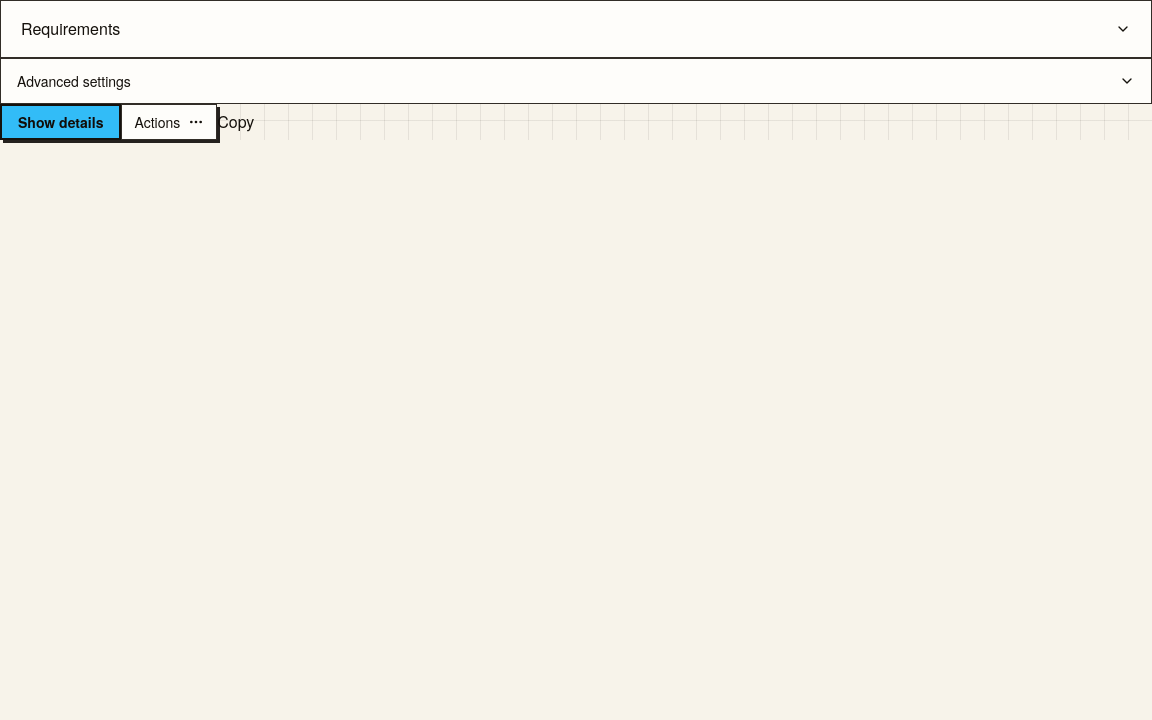
interactive and feedback components › supports disclosure and contextual overlays
This screenshot has width=1152, height=720.
Click the button "Requirements".
click(71, 28)  # box top-left (1, 1), bottom-right (1151, 57)
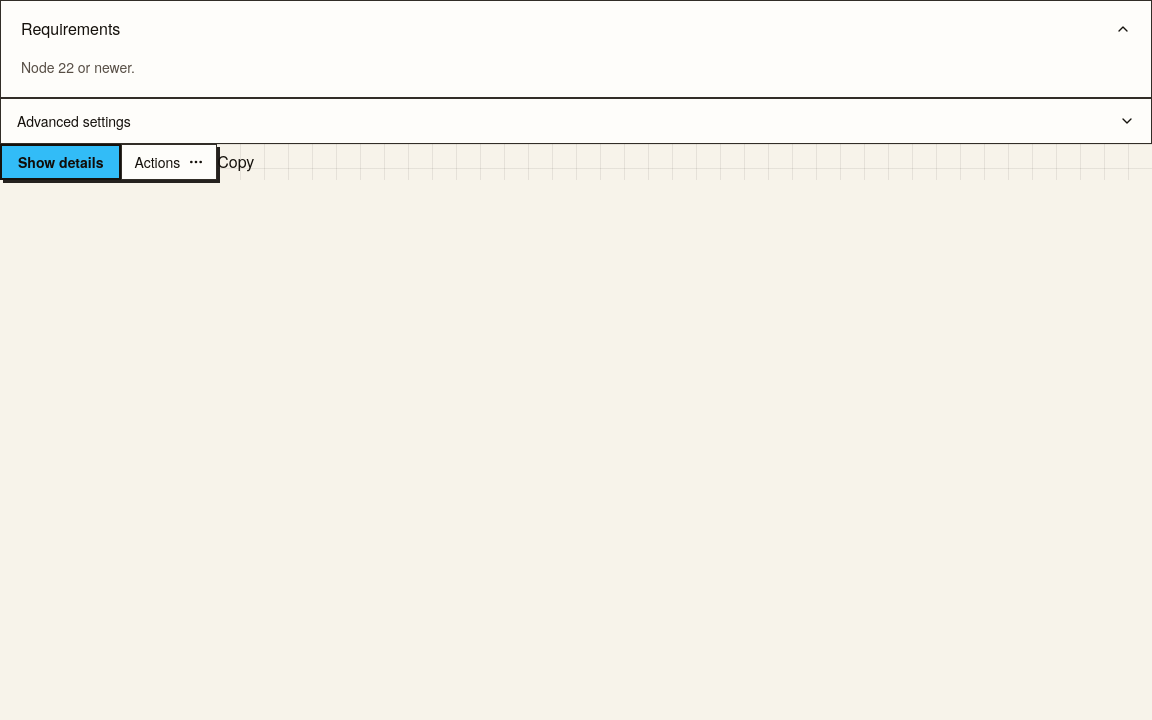
Now the text "Node 22 or newer." is shown, box top-left (21, 57), bottom-right (135, 77)
Click the button "Advanced settings".
click(74, 121)  # box top-left (1, 99), bottom-right (1151, 143)
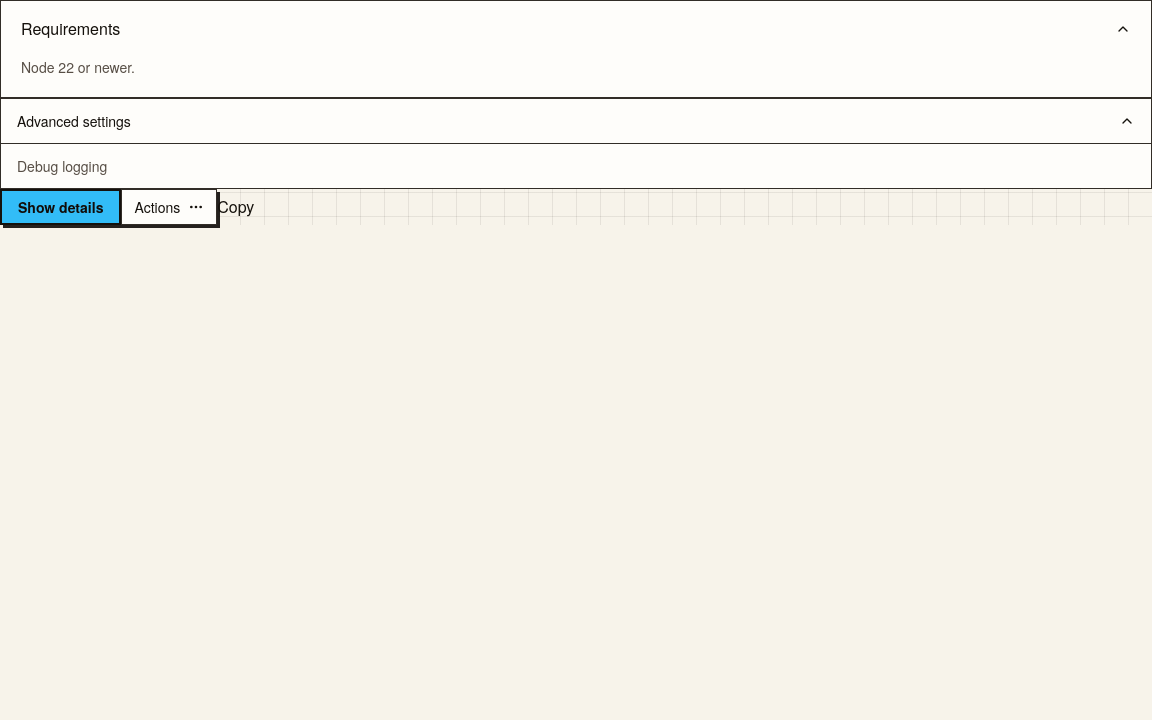
Now the text "Debug logging" is shown, box top-left (1, 143), bottom-right (1151, 188)
Click the button "Show details".
click(61, 207)  # box top-left (0, 189), bottom-right (122, 225)
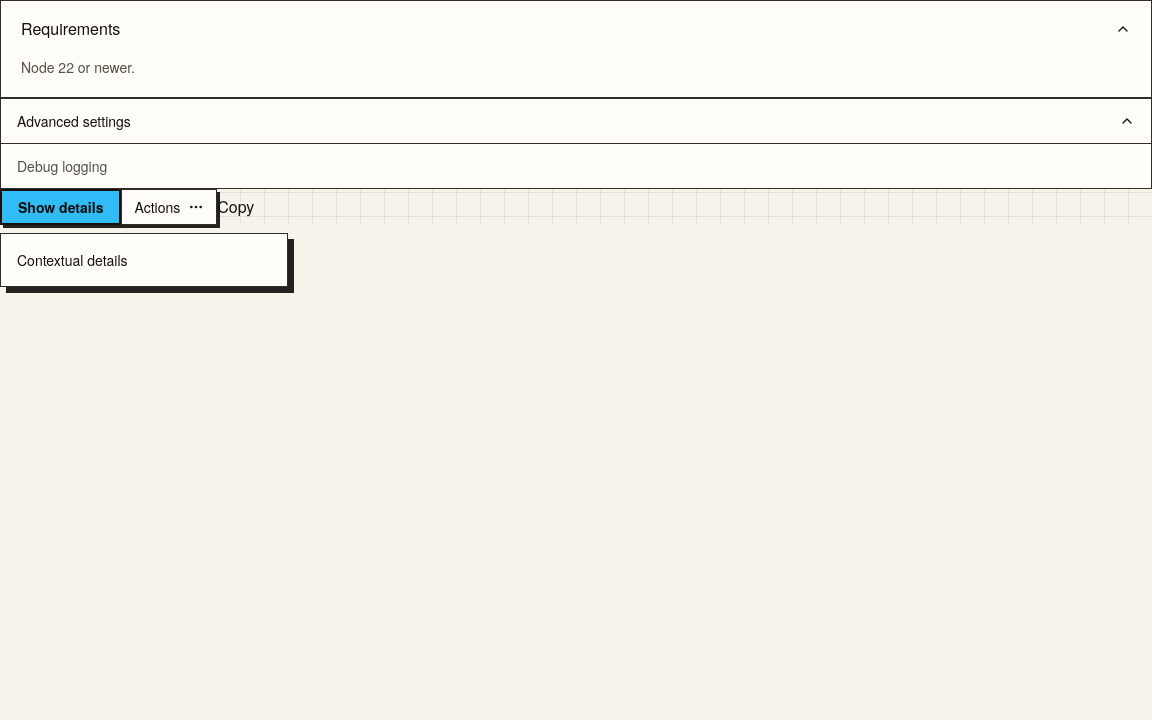
Now the text "Contextual details" is shown, box top-left (0, 233), bottom-right (288, 287)
Click the button "Actions".
click(169, 207)  # box top-left (122, 189), bottom-right (217, 225)
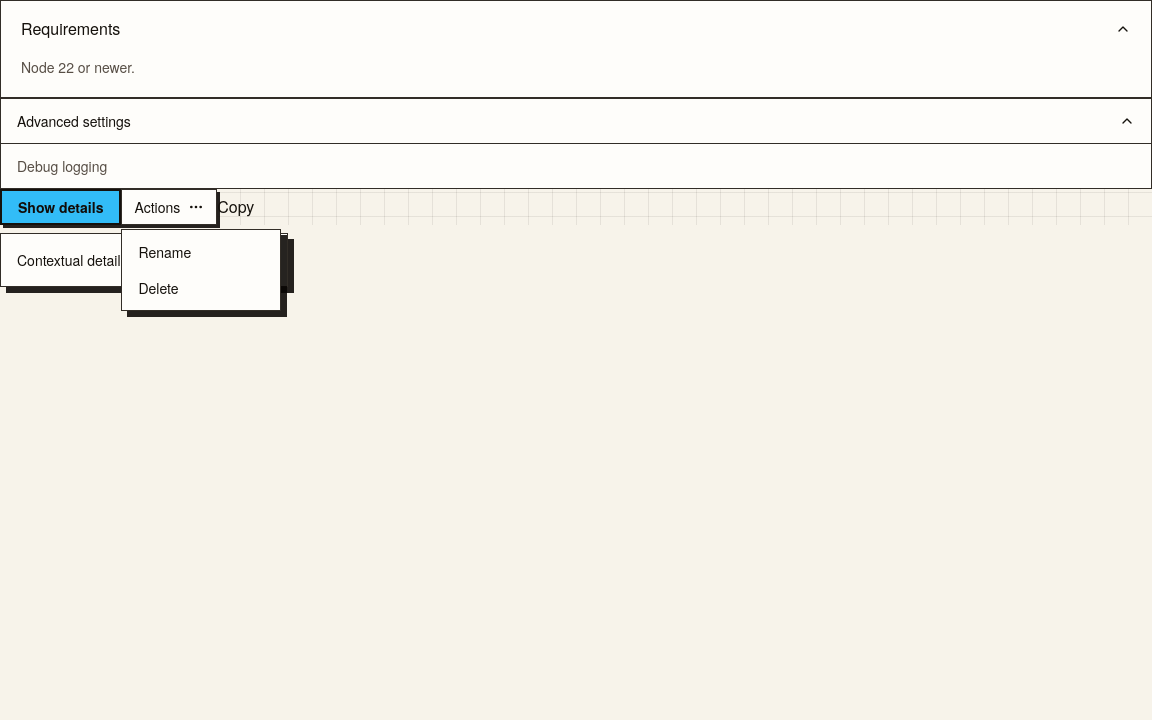
Now the menu item "Rename" is shown, box top-left (126, 234), bottom-right (276, 270)
Focus the button "Copy" at (236, 207), box top-left (217, 195), bottom-right (254, 219)
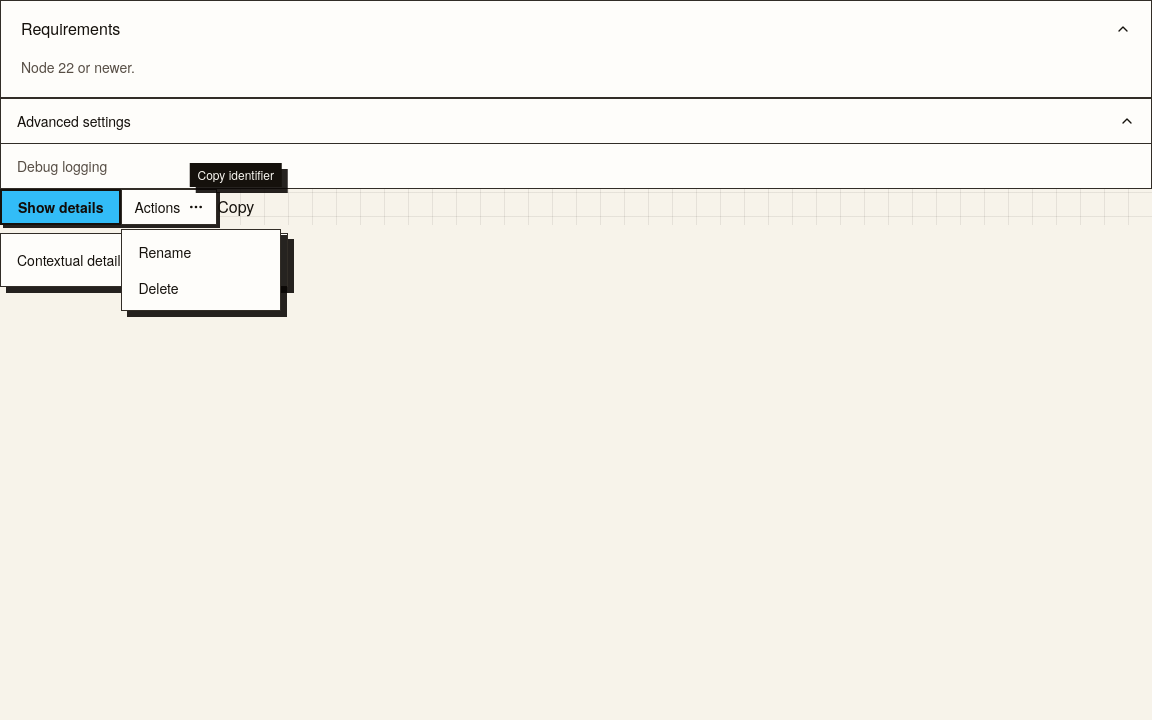
Now the tooltip reads "Copy identifier", box top-left (198, 166), bottom-right (274, 183)
